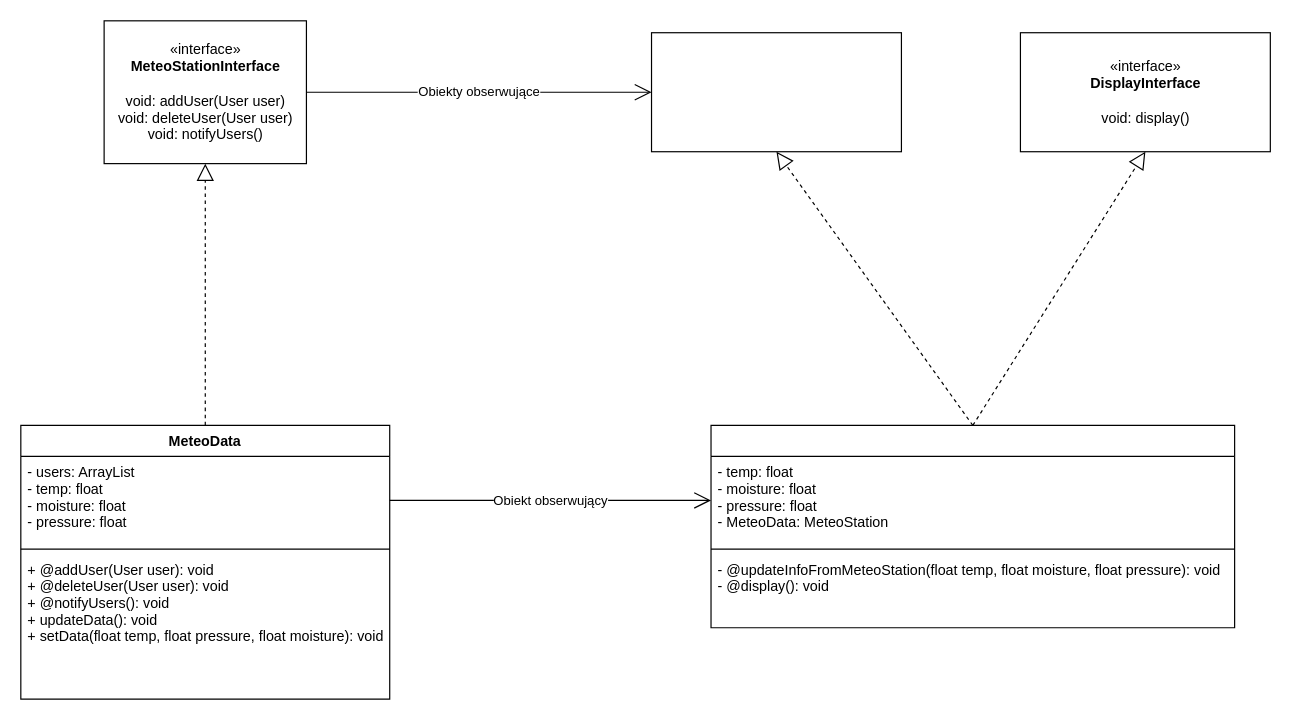
Image size: 1291x724. Some labels were removed from this diagram. The box of each missing label's shape, as (x1, y1, x2, y2) in pixels:
CurrentWeatherCondition: (710, 424, 1235, 628)
«interface» UserInterface void: updateInfoFromMeteoStation(): (650, 32, 901, 152)
